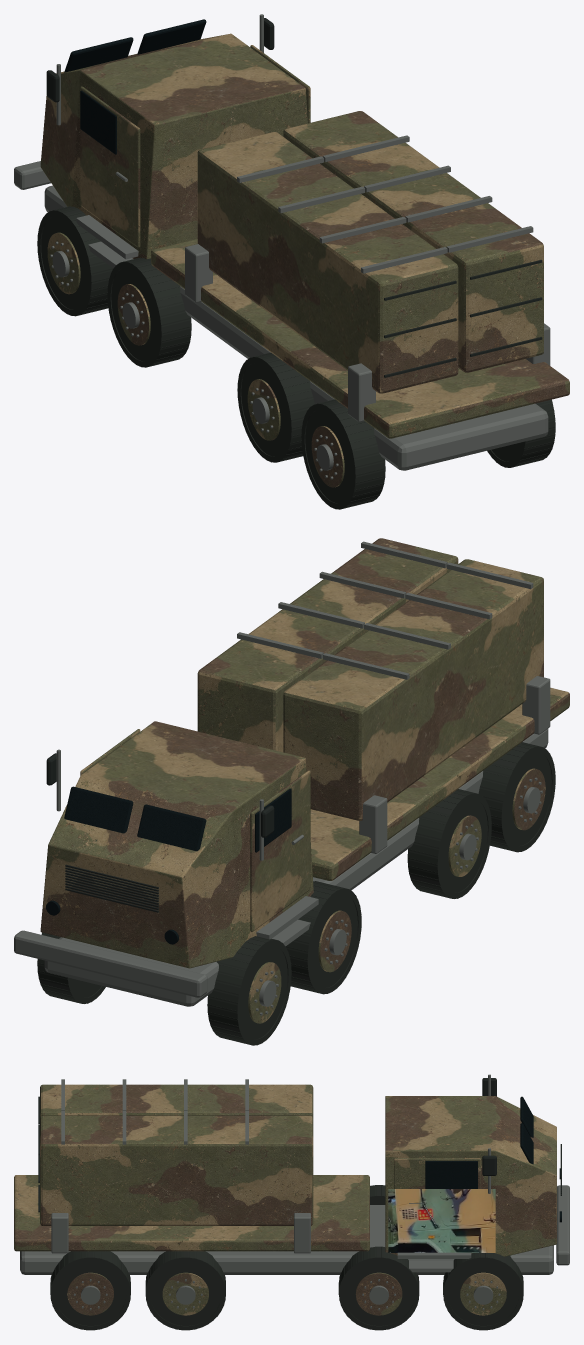
File: chunmoo.glb
The picture shows the model from 3 angles, top to bottom: view 1: azimuth 30°, elevation 25°; view 2: azimuth 150°, elevation 25°; view 3: azimuth 270°, elevation 25°; orthographic projection. The views are drawn at different scales.
Visible parts, largest first — view 1: ClosedExternalHousings_Authored Korean camouflage, Hull_Authored Korean camouflage, Hull_Rubber, Hull_Exposed steel, ClosedExternalHousings_Exposed steel, Hull_Optical glass, ClosedExternalHousings_Recess, Hull_Recess; view 2: Hull_Authored Korean camouflage, ClosedExternalHousings_Authored Korean camouflage, Hull_Rubber, Hull_Exposed steel, Hull_Optical glass, ClosedExternalHousings_Exposed steel, Hull_Recess; view 3: ClosedExternalHousings_Authored Korean camouflage, Hull_Authored Korean camouflage, Hull_Rubber, Hull_Exposed steel, Hull_Chunmoo photographed cab side photo material, Hull_Optical glass, ClosedExternalHousings_Exposed steel, Hull_Recess.
Part boxes in pixels (x1,y1,x2,y2): ClosedExternalHousings_Authored Korean camouflage: (197, 111, 543, 393); Hull_Authored Korean camouflage: (40, 33, 569, 487); Hull_Rubber: (37, 206, 555, 509); Hull_Exposed steel: (14, 14, 550, 479); ClosedExternalHousings_Exposed steel: (237, 135, 533, 273); Hull_Optical glass: (64, 19, 206, 154); ClosedExternalHousings_Recess: (384, 260, 542, 377); Hull_Recess: (46, 18, 274, 102); Hull_Authored Korean camouflage: (40, 687, 569, 1023); ClosedExternalHousings_Authored Korean camouflage: (197, 538, 543, 820); Hull_Rubber: (37, 742, 555, 1045); Hull_Exposed steel: (14, 676, 550, 1015); Hull_Optical glass: (46, 786, 291, 944); ClosedExternalHousings_Exposed steel: (237, 541, 533, 679); Hull_Recess: (46, 753, 274, 912); ClosedExternalHousings_Authored Korean camouflage: (40, 1084, 313, 1225); Hull_Authored Korean camouflage: (14, 1096, 556, 1315); Hull_Rubber: (50, 1185, 523, 1330); Hull_Exposed steel: (20, 1074, 569, 1310); Hull_Chunmoo photographed cab side photo material: (388, 1189, 495, 1252); Hull_Optical glass: (425, 1096, 561, 1222); ClosedExternalHousings_Exposed steel: (61, 1079, 248, 1144); Hull_Recess: (482, 1078, 561, 1195).
Bounding box in the file's own units: 3.08 × 3.31 × 9.06.
Materials: 6 (3 with a texture image).
